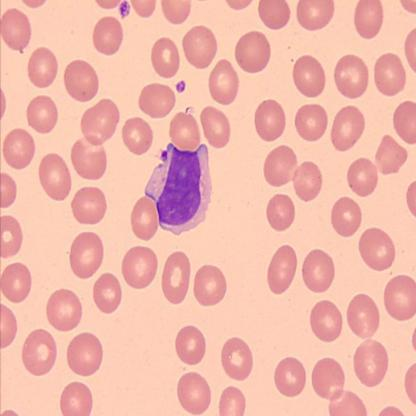Atypical lymphocyte: (146, 143, 214, 233)
